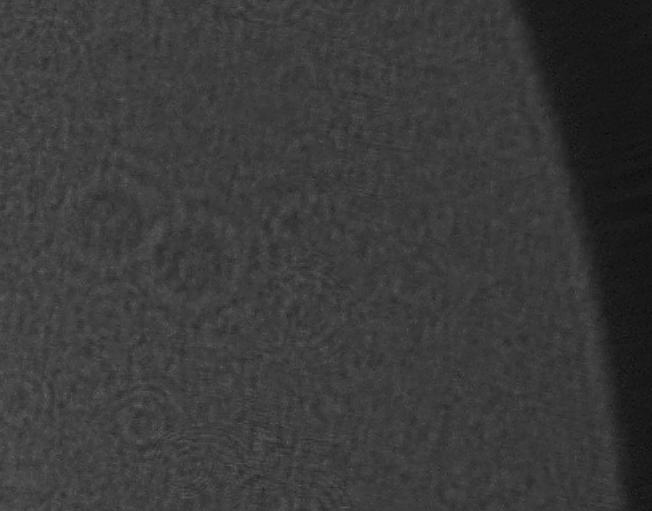bead: (235, 0, 339, 37), (254, 473, 350, 511)
